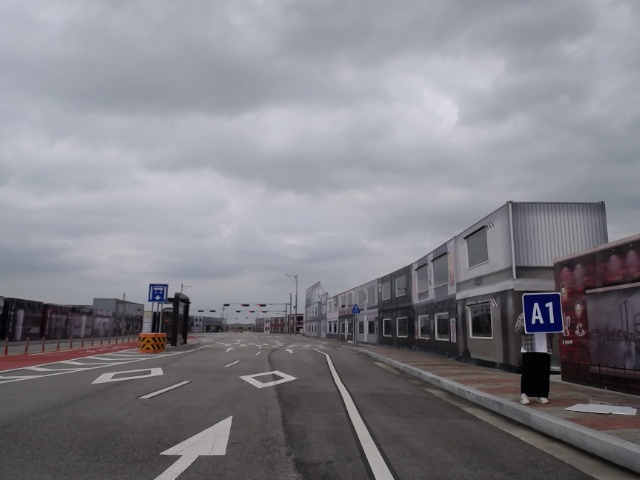delivery_a1: (522, 293, 564, 334)
